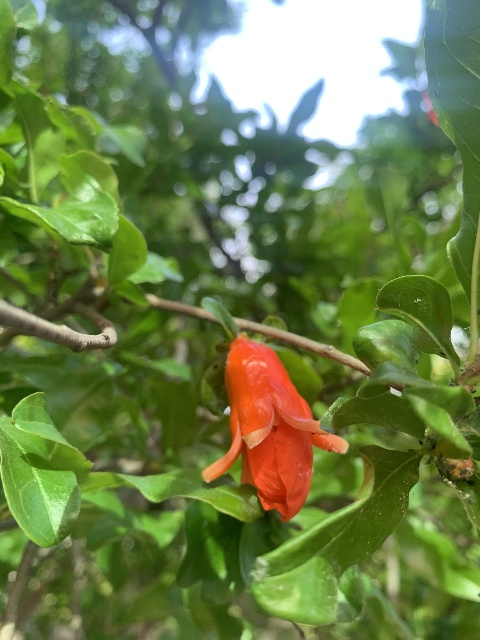flower: (201, 335, 349, 523)
